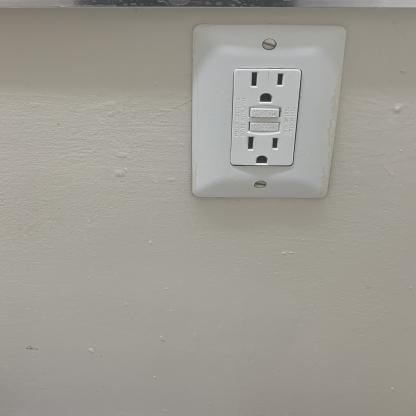OUTLET: (192, 23, 336, 200)
